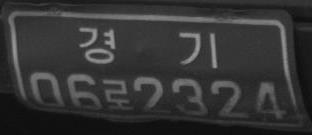0: (28, 71, 65, 108)
2: (209, 78, 249, 119), (133, 75, 171, 115)
3: (170, 77, 209, 117)
4: (251, 79, 286, 120)
6: (65, 72, 103, 111)
경기_D: (77, 26, 218, 69)
로: (103, 78, 133, 111)
